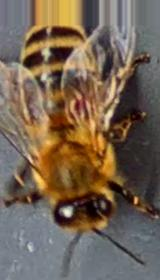varroa_mite: (59, 88, 103, 122)
